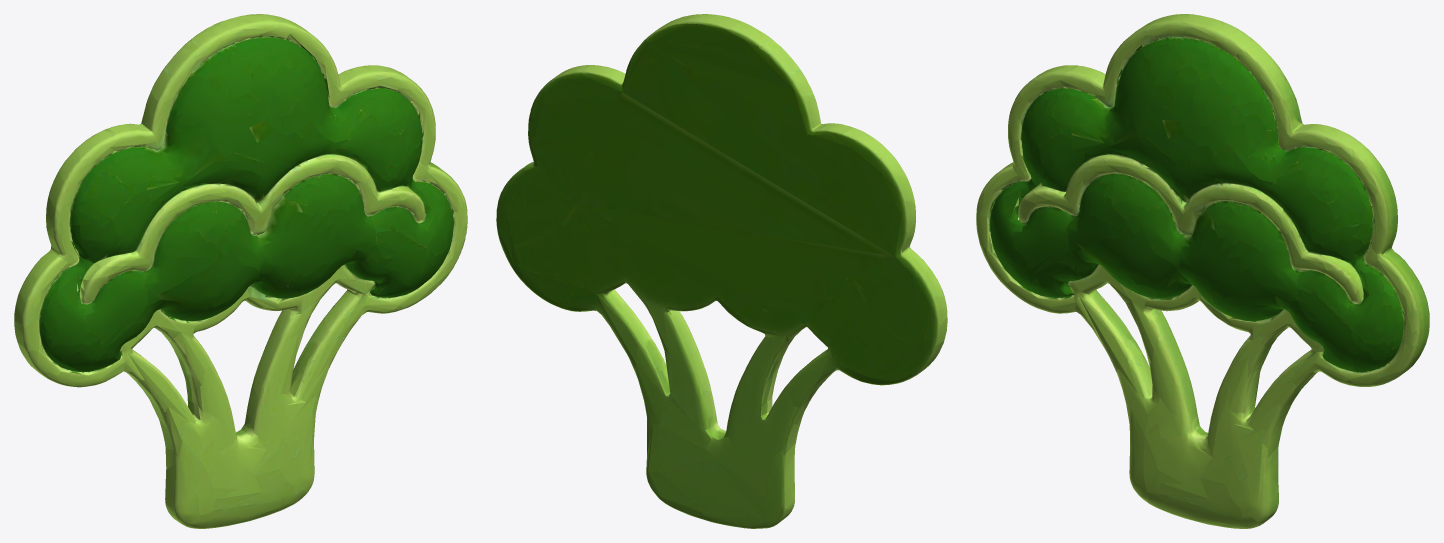
Rendered from getkong-broccoli2.glb.
3 renders of one model, left to right at view 1: azimuth 30°, elevation 25°; view 2: azimuth 150°, elevation 25°; view 3: azimuth 330°, elevation 25°, orthographic.
Visible parts, largest first — view 1: output_unwrapped; view 2: output_unwrapped; view 3: output_unwrapped.
Part boxes in pixels (left/top/right/bottom): output_unwrapped: left=14, top=14, right=467, bottom=528; output_unwrapped: left=496, top=14, right=947, bottom=528; output_unwrapped: left=976, top=14, right=1429, bottom=528.
Bounding box in the file's own units: 1.77 × 1.9 × 0.2311.
Materials: 1 (1 with a texture image).
